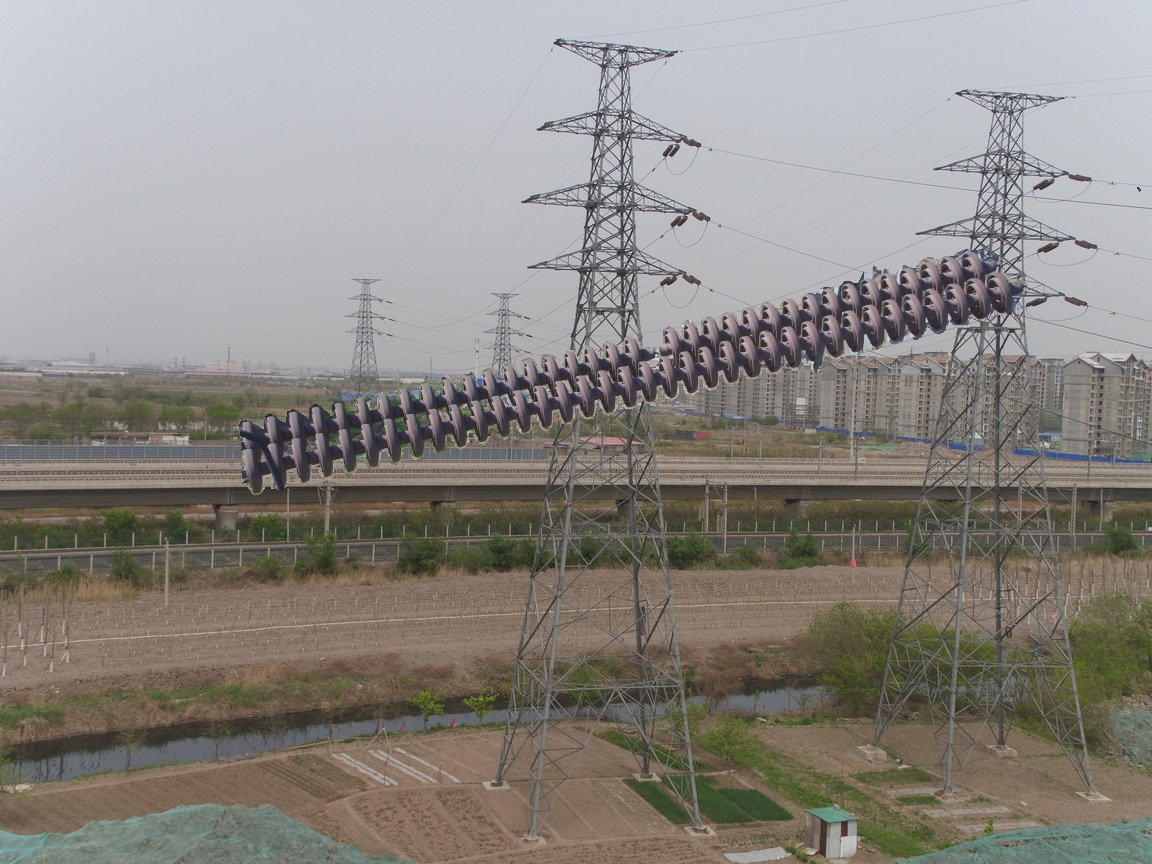defect: (619, 324, 685, 366)
